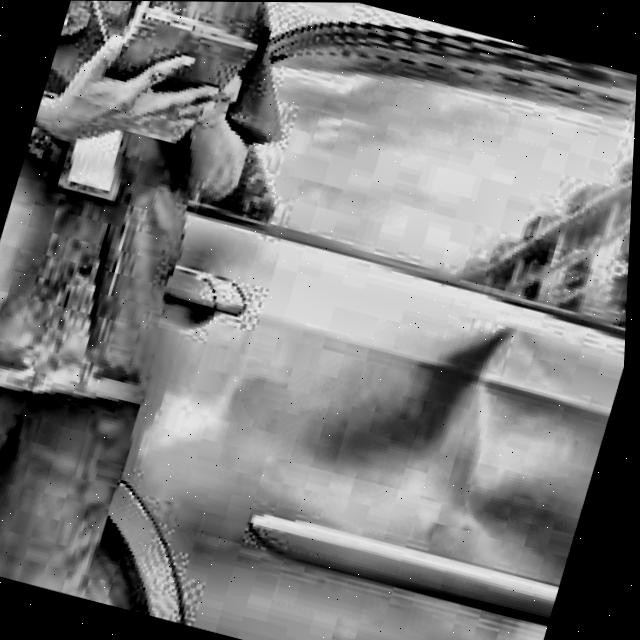door_dent: (339, 305, 576, 557)
